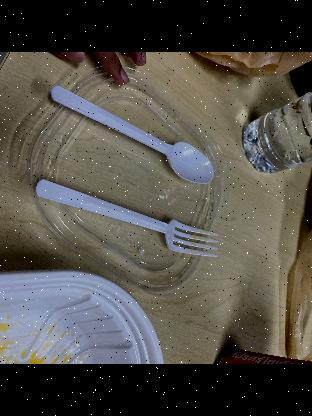Others: (25, 170, 225, 268), (45, 83, 215, 187)
